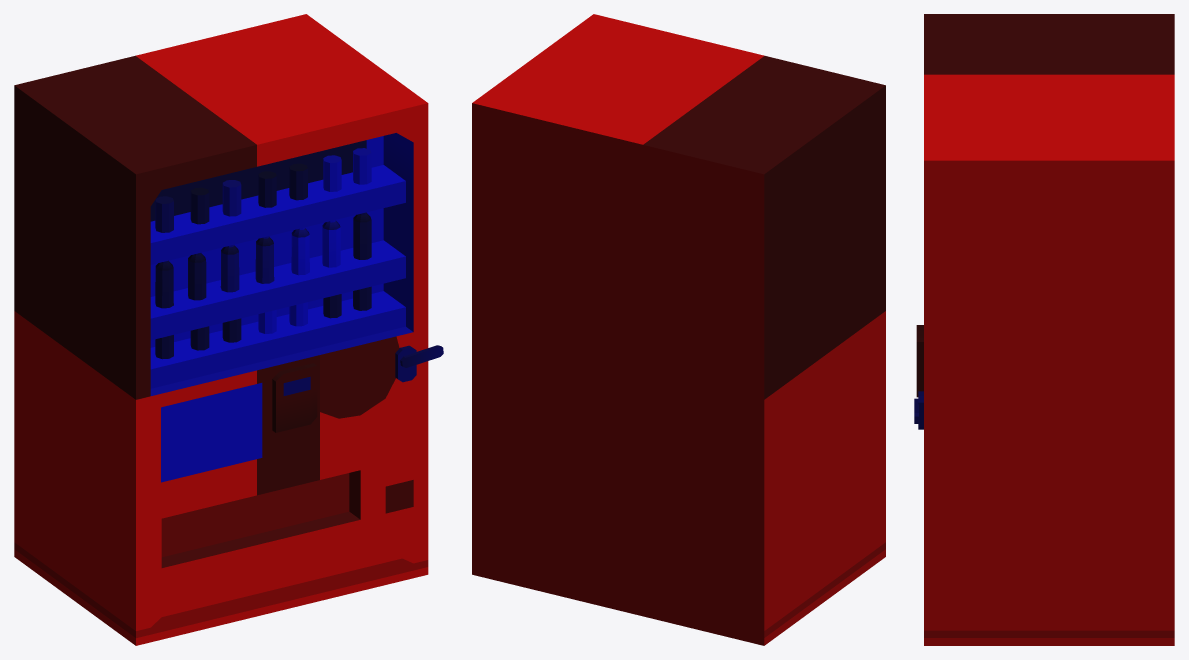
Rendered from VendingMachine002.glb.
The picture shows the model from 3 angles, left to right: view 1: azimuth 30°, elevation 25°; view 2: azimuth 150°, elevation 25°; view 3: azimuth 270°, elevation 25°; orthographic projection. The views are drawn at different scales.
Visible parts, largest first — view 1: VendingMachine002; view 2: VendingMachine002; view 3: VendingMachine002.
Boxes of the visible parts, x1,y1,x2,y2 form: VendingMachine002: (14, 14, 443, 645); VendingMachine002: (472, 14, 885, 645); VendingMachine002: (914, 14, 1174, 645).
Bounding box in the file's own units: 7.92 × 11.77 × 5.72.
